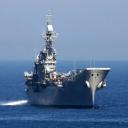Portanaves: (24, 10, 113, 111)
